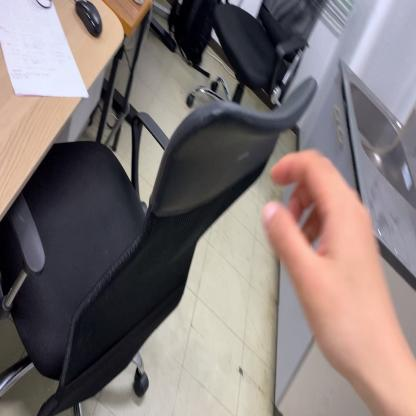chair: (0, 76, 318, 415), (184, 2, 330, 110)
